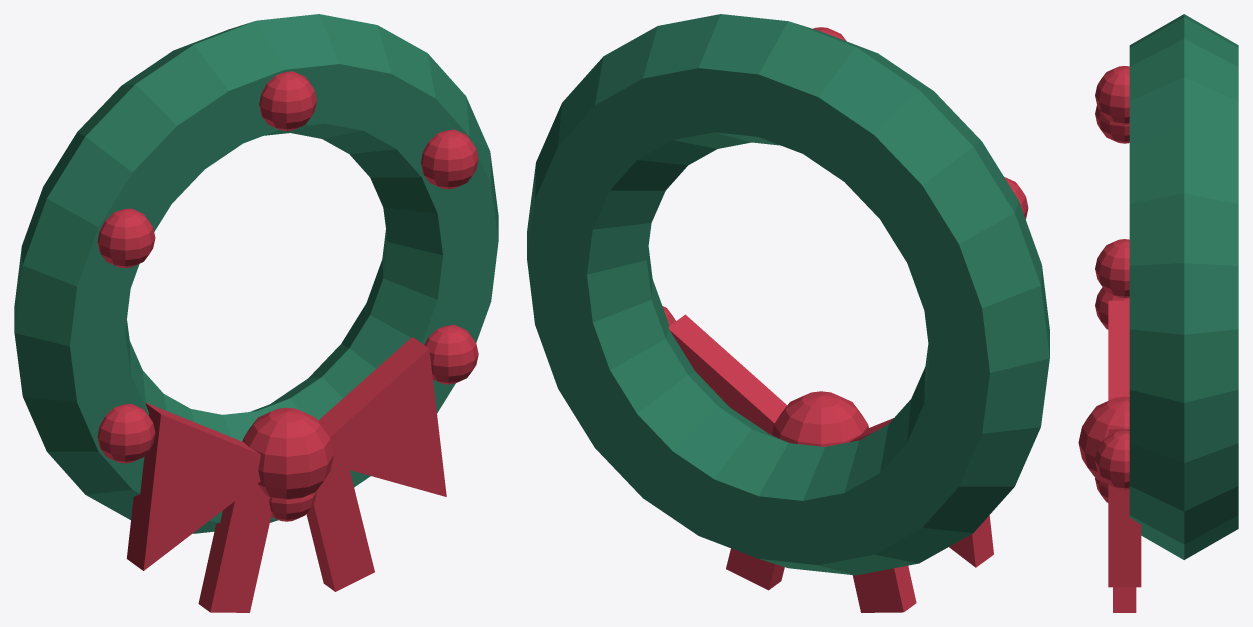
The model's file is three-d-christmas-village-christmas-village-holly-wreath-a30d9a35.glb.
3 renders of one model, left to right at view 1: azimuth 30°, elevation 25°; view 2: azimuth 150°, elevation 25°; view 3: azimuth 270°, elevation 25°, orthographic. The views are drawn at different scales.
Visible parts, largest first — view 1: holly-wreath; view 2: holly-wreath; view 3: holly-wreath.
Boxes of the visible parts, x1,y1,x2,y2 form: holly-wreath: (14,14,498,612); holly-wreath: (527,14,1049,612); holly-wreath: (1078,14,1238,612).
Bounding box in the file's own units: 0.83 × 0.91 × 0.2423.
